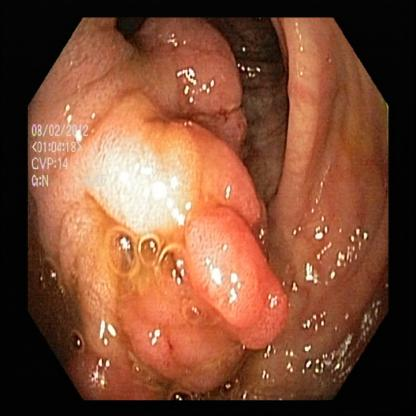Labels: (28, 111, 89, 205)
Polyps: (82, 96, 204, 228), (126, 245, 236, 382), (186, 217, 301, 335), (156, 25, 252, 132), (68, 209, 126, 358)
